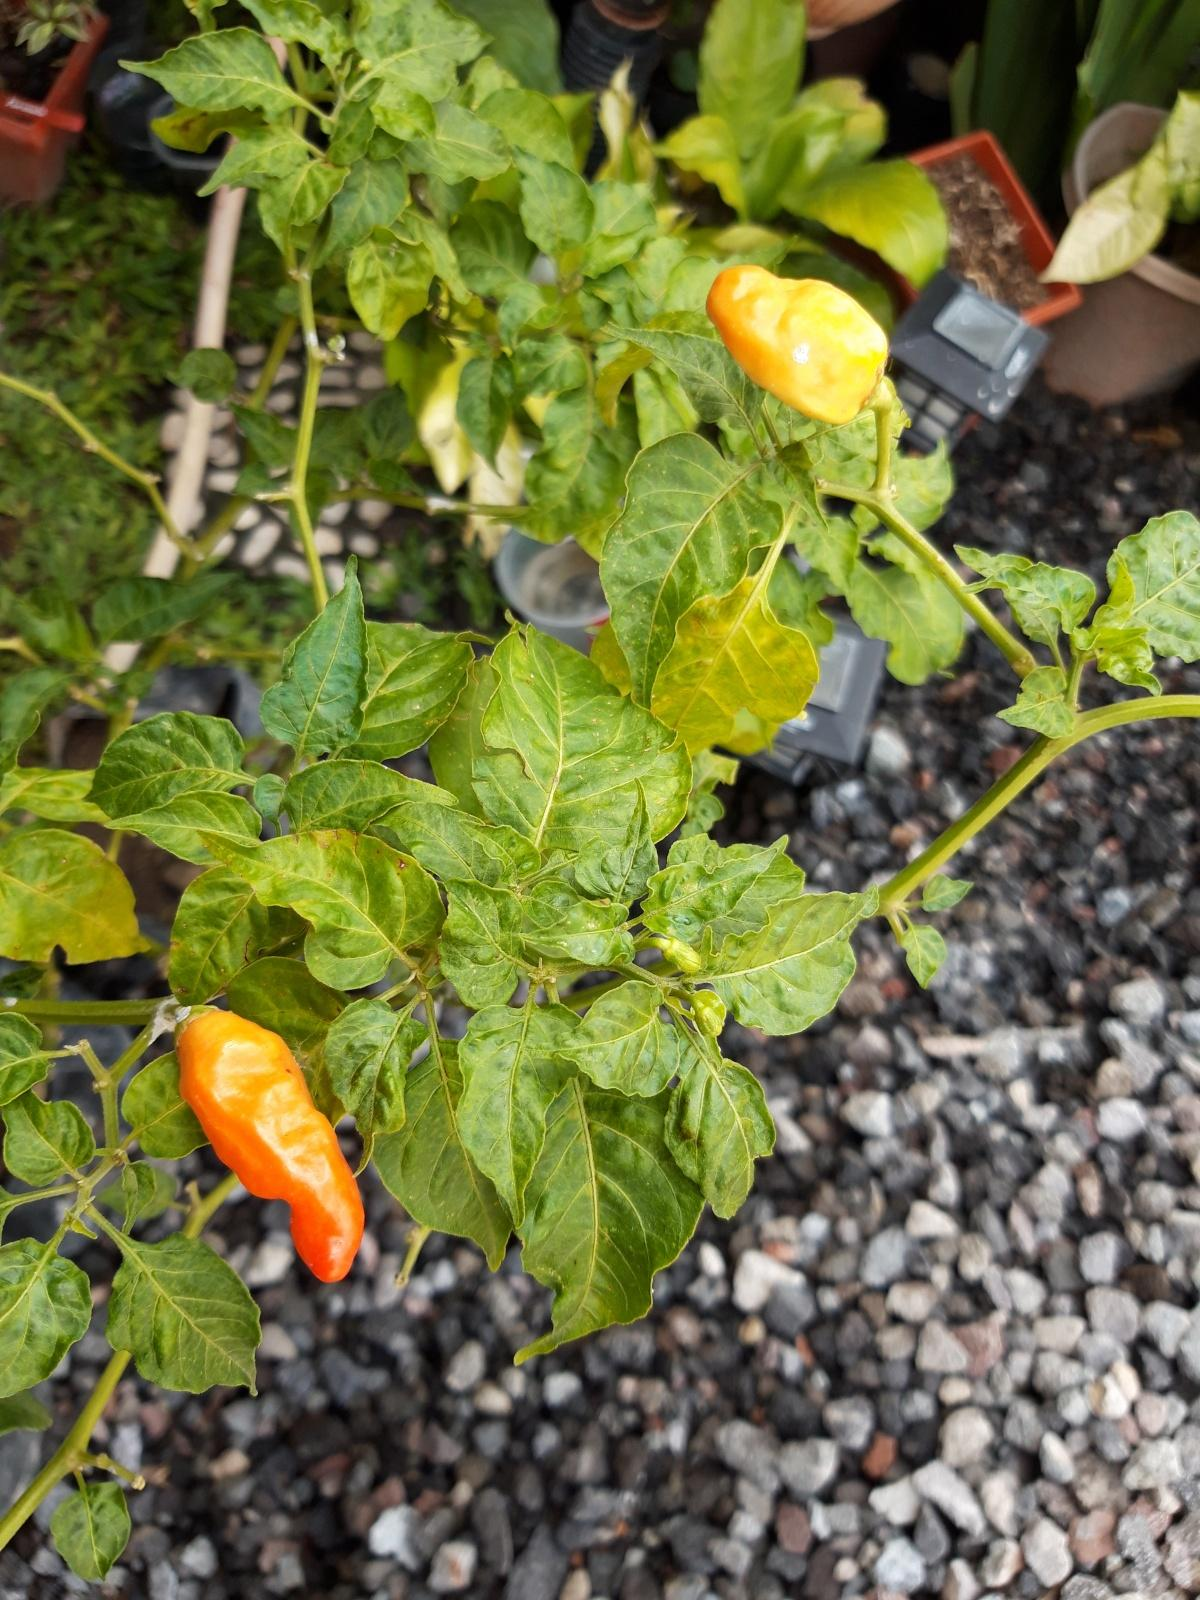cabai_normal: (175, 1008, 373, 1288), (707, 262, 890, 427)
